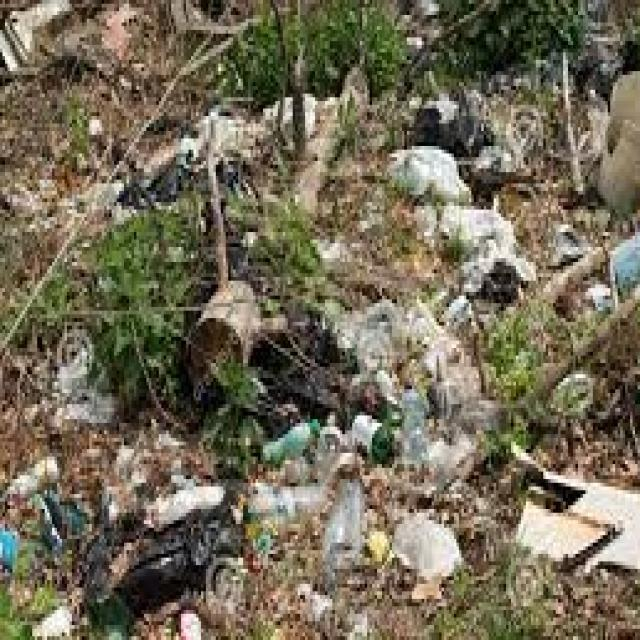garbage: (98, 90, 640, 640)
